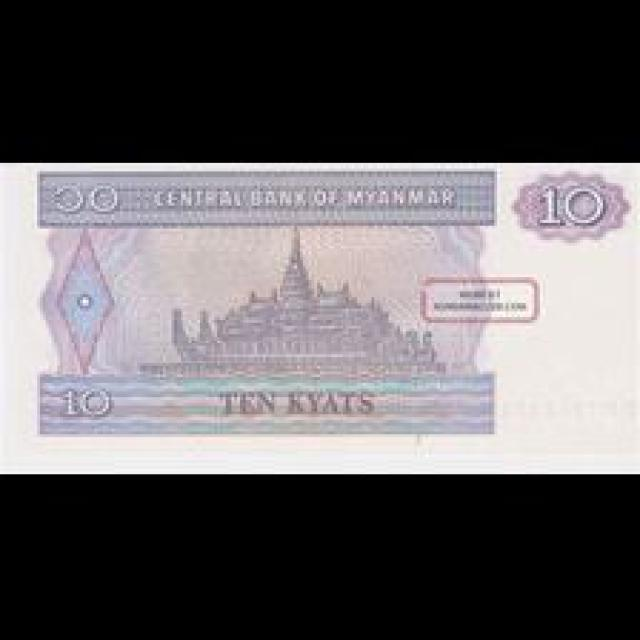banknote: (18, 164, 628, 447)
